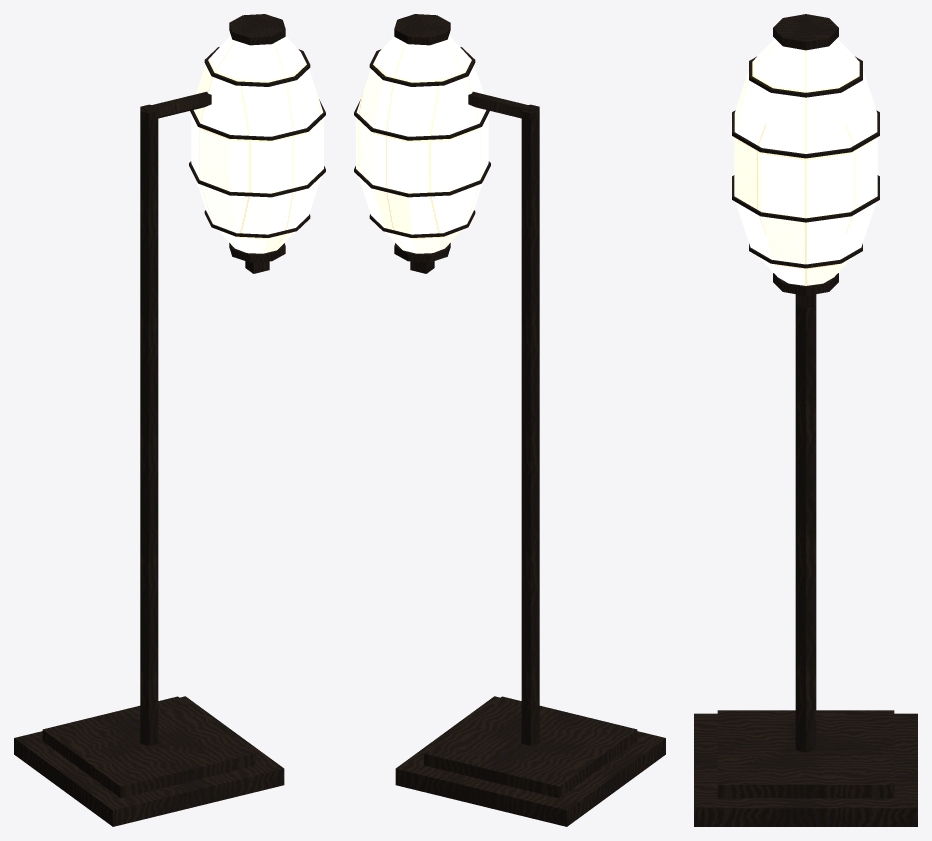
The model's file is lantern.glb.
The picture shows the model from 3 angles, left to right: view 1: azimuth 30°, elevation 25°; view 2: azimuth 150°, elevation 25°; view 3: azimuth 270°, elevation 25°; orthographic projection. The views are drawn at different scales.
Visible parts, largest first — view 1: lantern; view 2: lantern; view 3: lantern.
Boxes of the visible parts, left/top/right/bottom form: lantern: left=14, top=14, right=325, bottom=826; lantern: left=354, top=14, right=665, bottom=826; lantern: left=694, top=14, right=917, bottom=826.
Size of the model in its own units: 0.562 by 1.52 by 0.38.
Materials: 3 (3 with a texture image).
